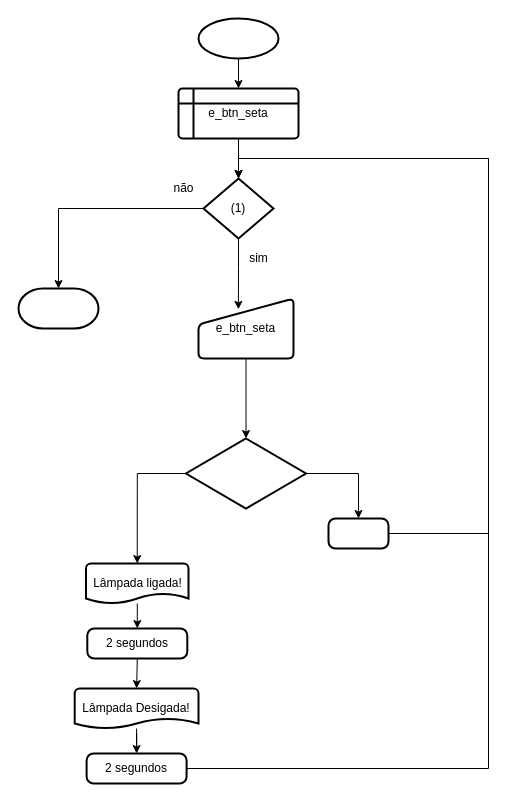
Image size: 514x801. Some labels were removed from this diagram. The centre of each missing label's shape, as x and y in pixels:
break: pixel 358 533
e_btn_seta == 1: pixel 245 473
fim: pixel 58 308
início: pixel 238 38
